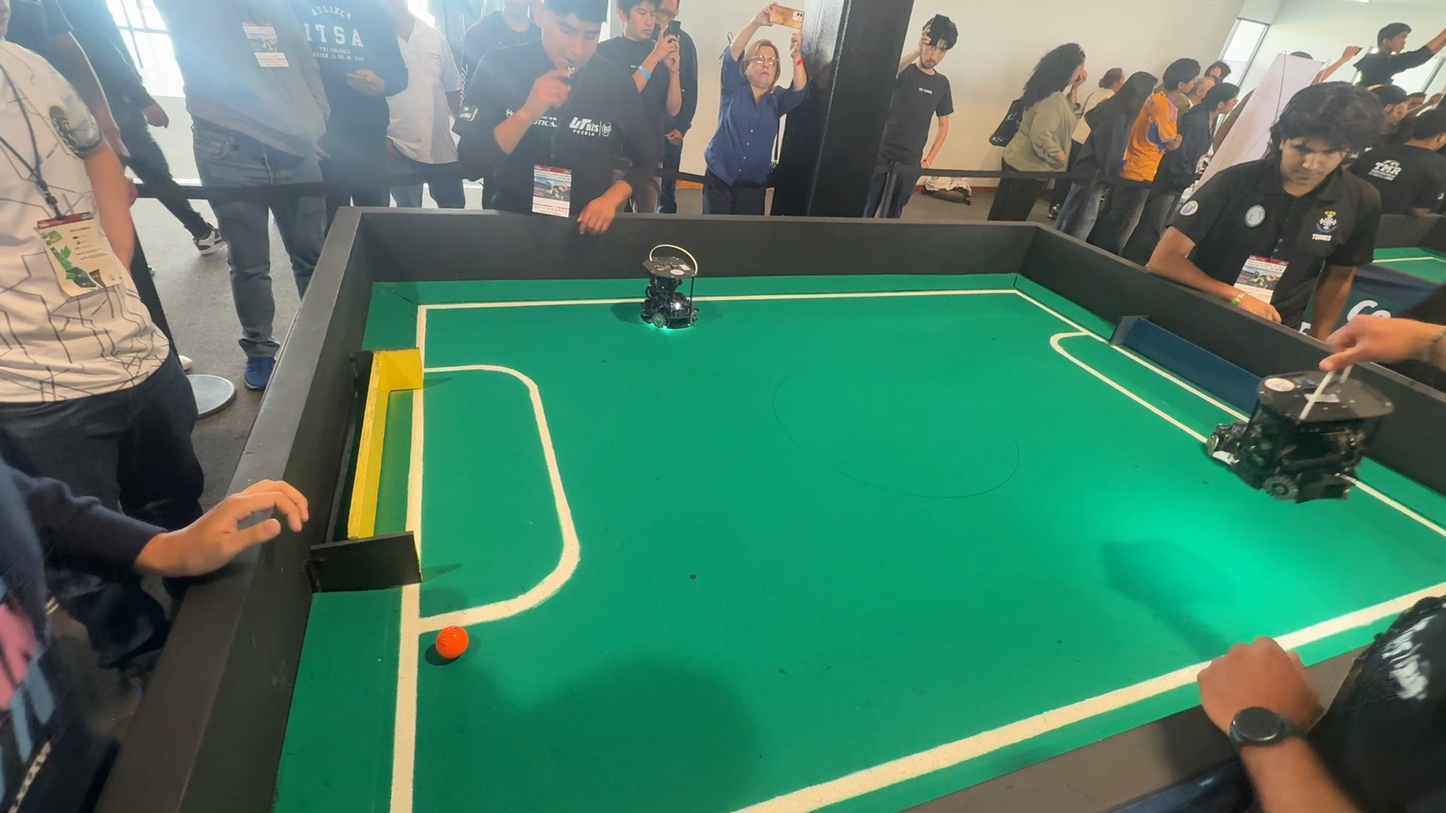Robot: (1173, 355, 1407, 519), (621, 242, 713, 344)
pelota: (424, 622, 477, 668)
